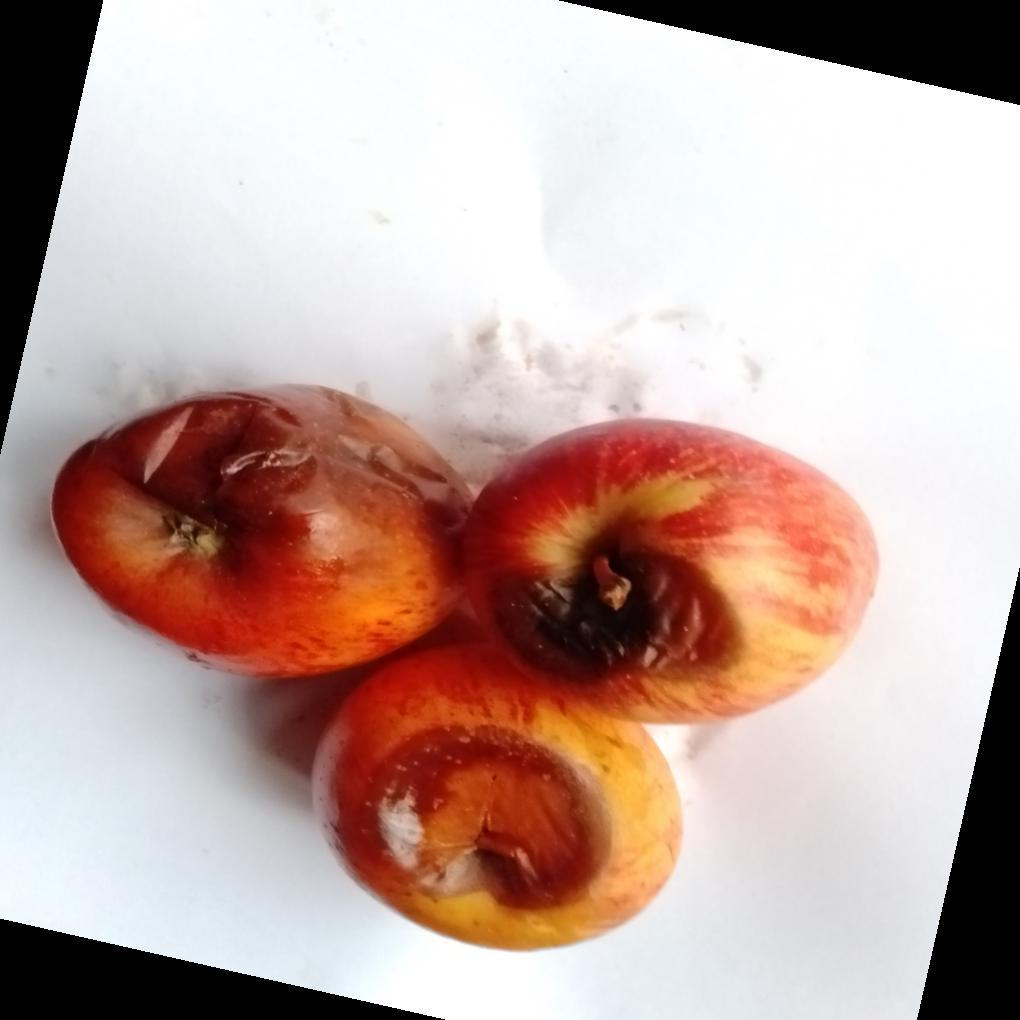FreshOrange: (51, 385, 877, 954)
